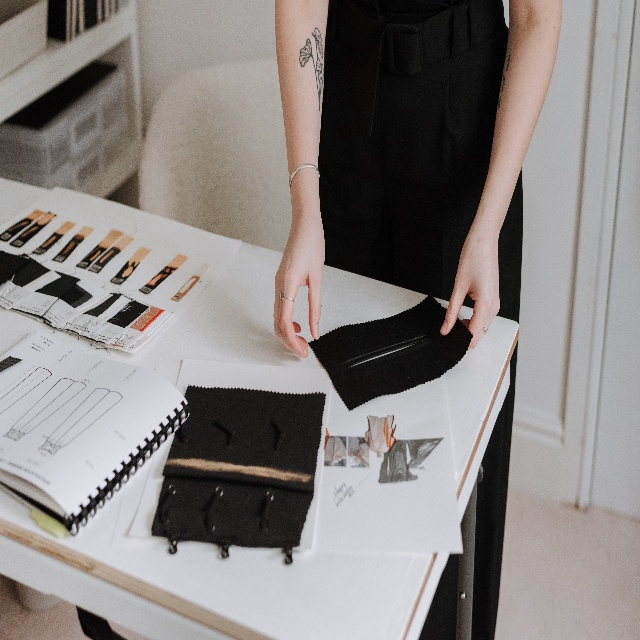Sin_guantes: (440, 221, 500, 348), (273, 213, 325, 358)
